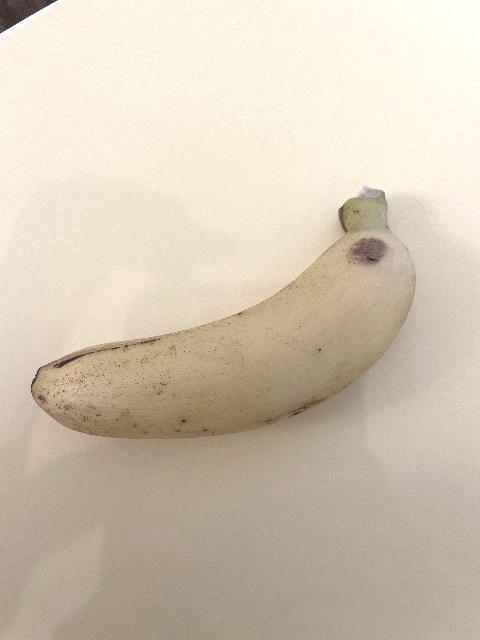banana: (29, 187, 417, 443)
